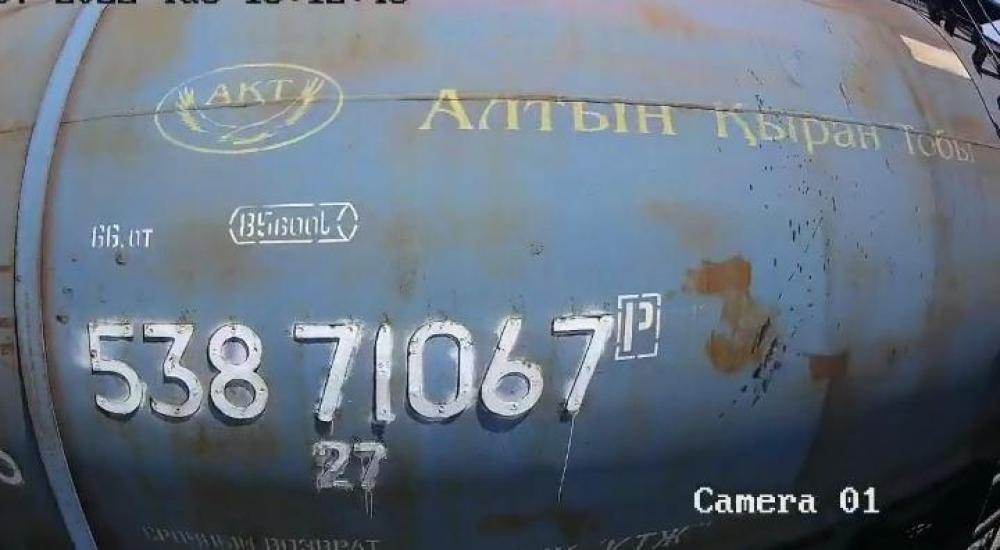Wagon-number: (81, 306, 619, 432)
